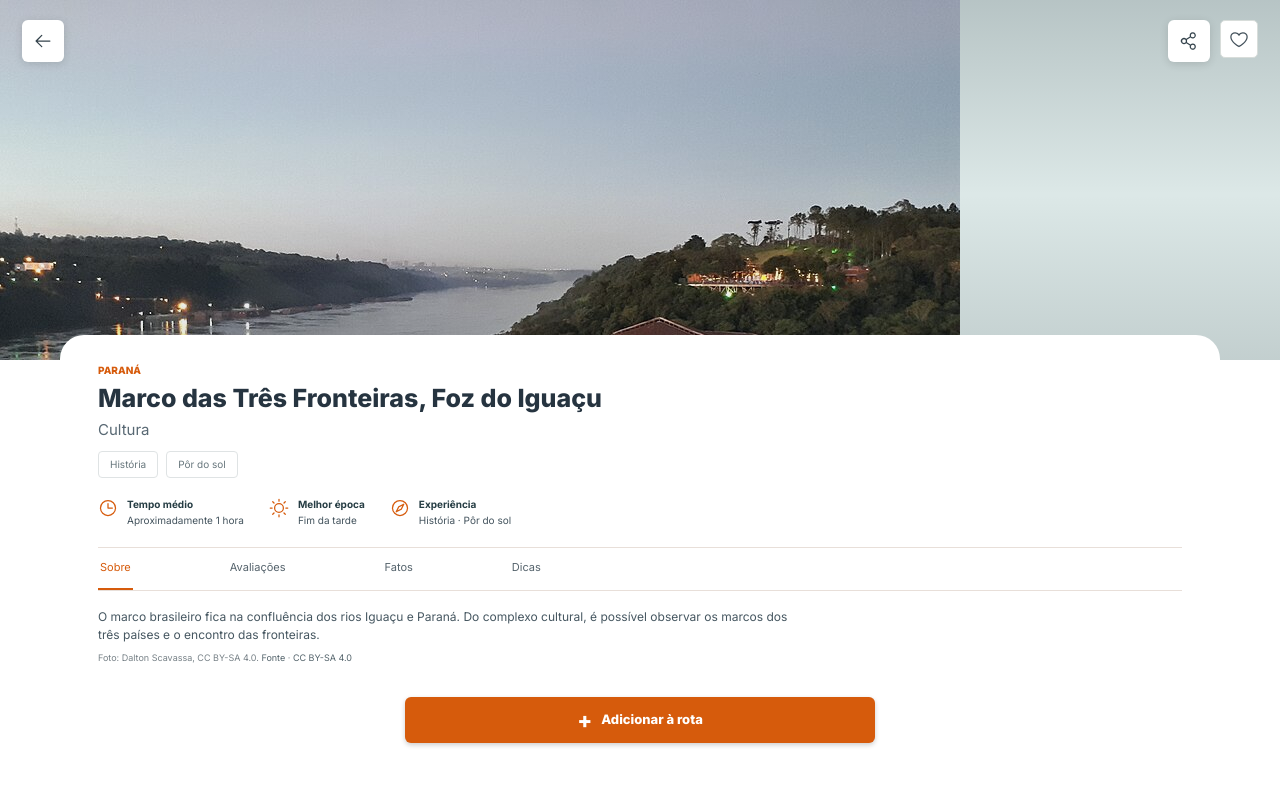
Scenario: tela Detalhe do destino › avisa quando não consegue compartilhar
The image size is (1280, 800).
Click the button named "Compartilhar destino".
click(1189, 41)  # box [1168,20,1210,62]
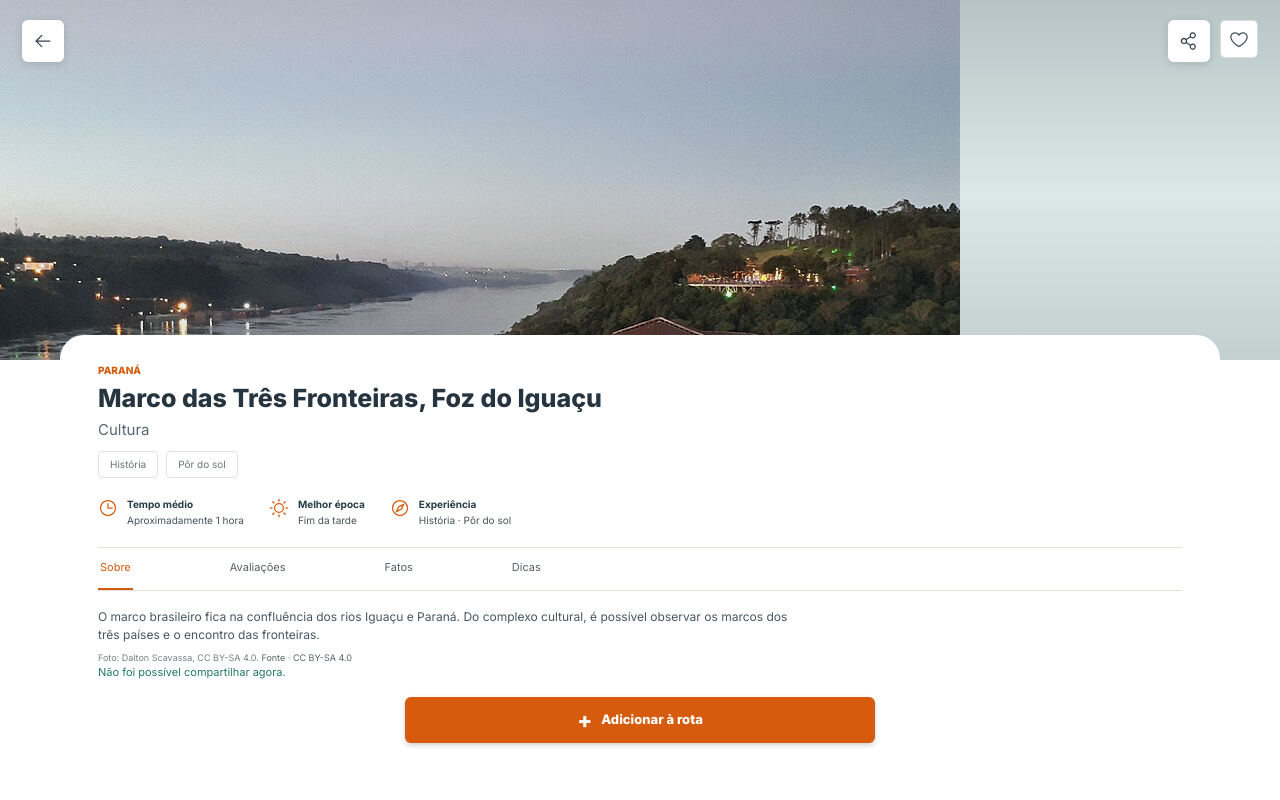
Result: the text "Não foi possível compartilhar agora." is shown at [98,665,286,679]
